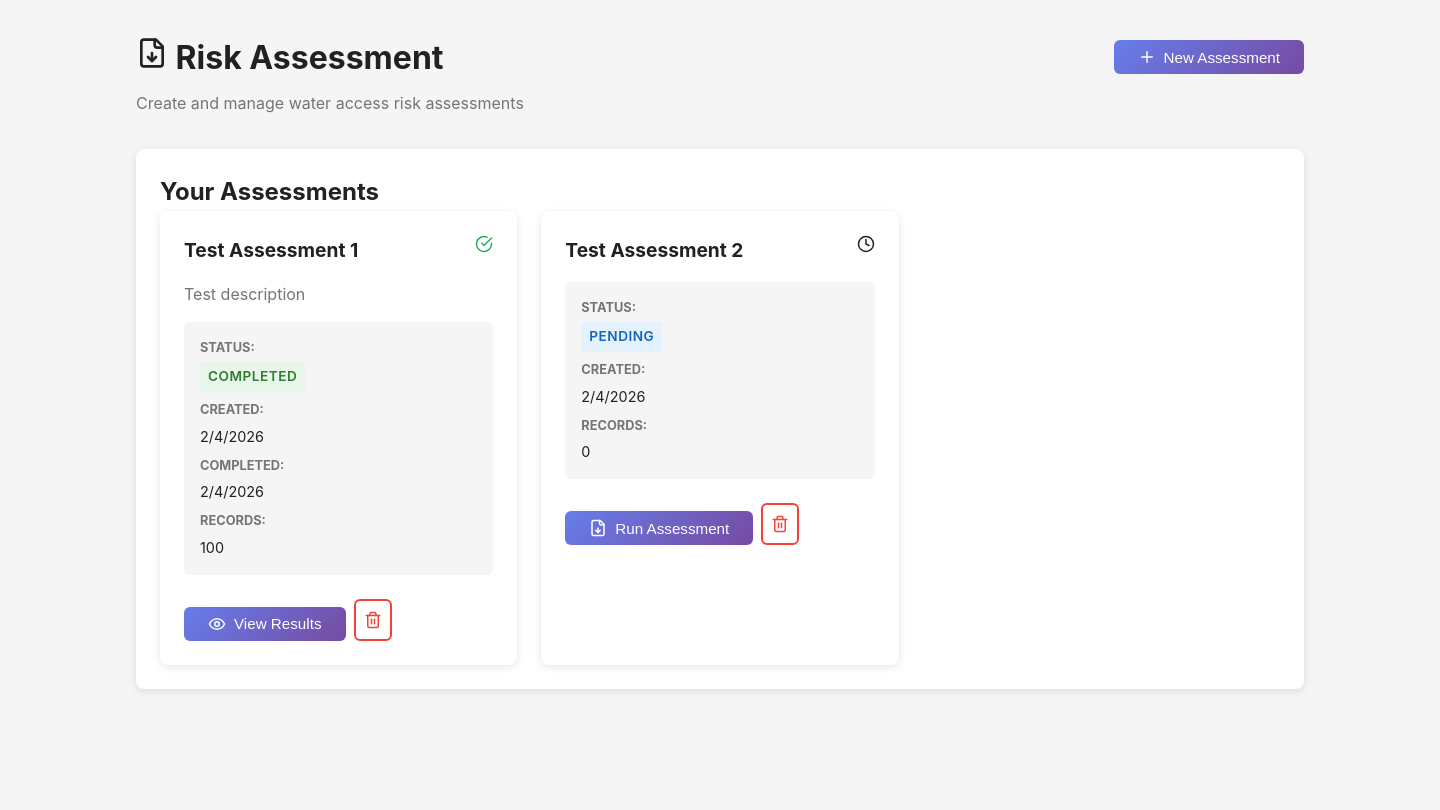
RiskAssessment › Create Assessment Form › should toggle create form visibility
Expected: the field with placeholder "Nairobi Water Access" is not shown
Click the button "New Assessment": (1209, 57) [1114,40,1304,74]
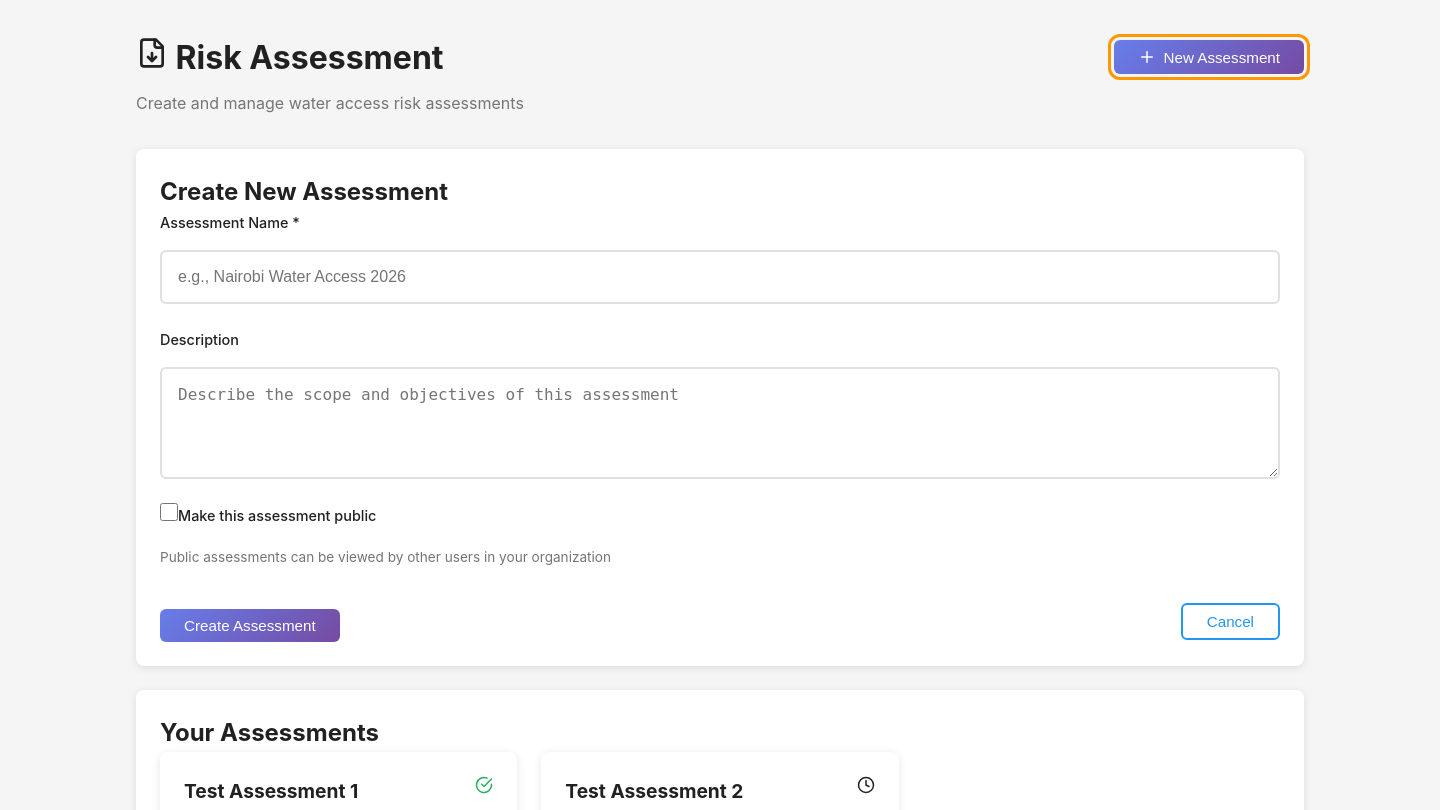
Expected: the field with placeholder "e.g., Nairobi Water Access 2026" is shown, [160,250,1280,304]
